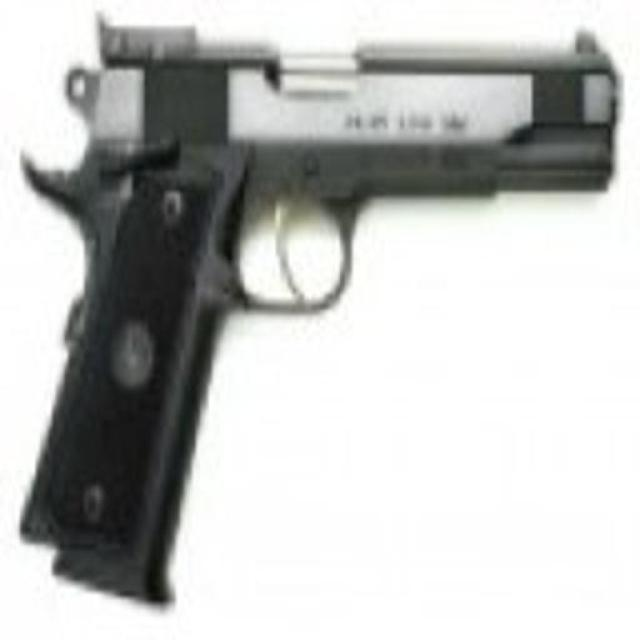pistol: (20, 10, 620, 596)
